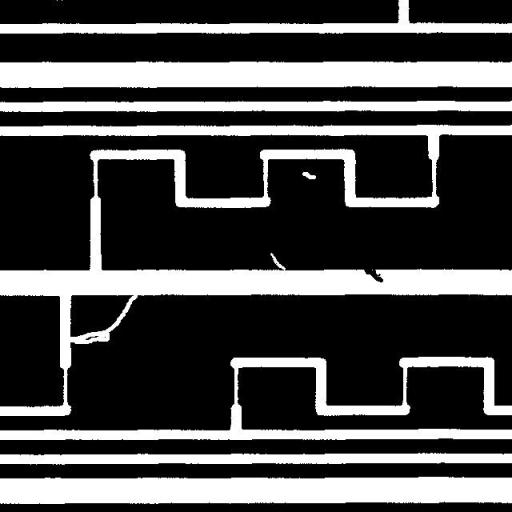mousebite: (262, 244, 293, 278)
open: (61, 286, 145, 352)
pin-hole: (294, 164, 324, 186)
spur: (354, 256, 390, 290)
